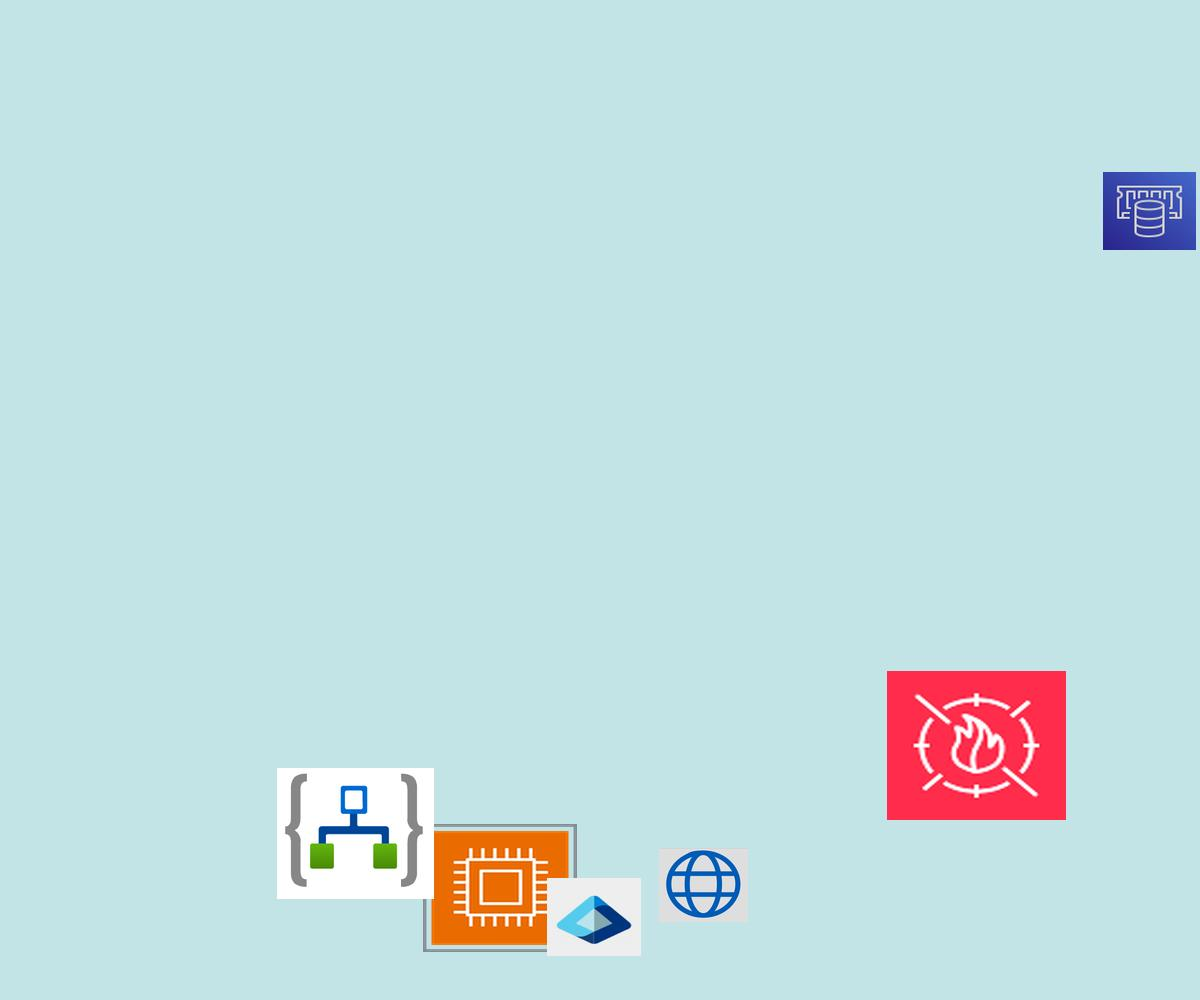AWS-Category_Compute: (423, 824, 577, 952)
AWS-ElastiCache: (1103, 172, 1196, 250)
AWS-WAF: (887, 671, 1066, 820)
Azure_http: (659, 848, 748, 922)
Azure_integration-204-Logic-Apps: (277, 768, 434, 899)
Azure_microsoft_entra: (547, 878, 641, 956)
